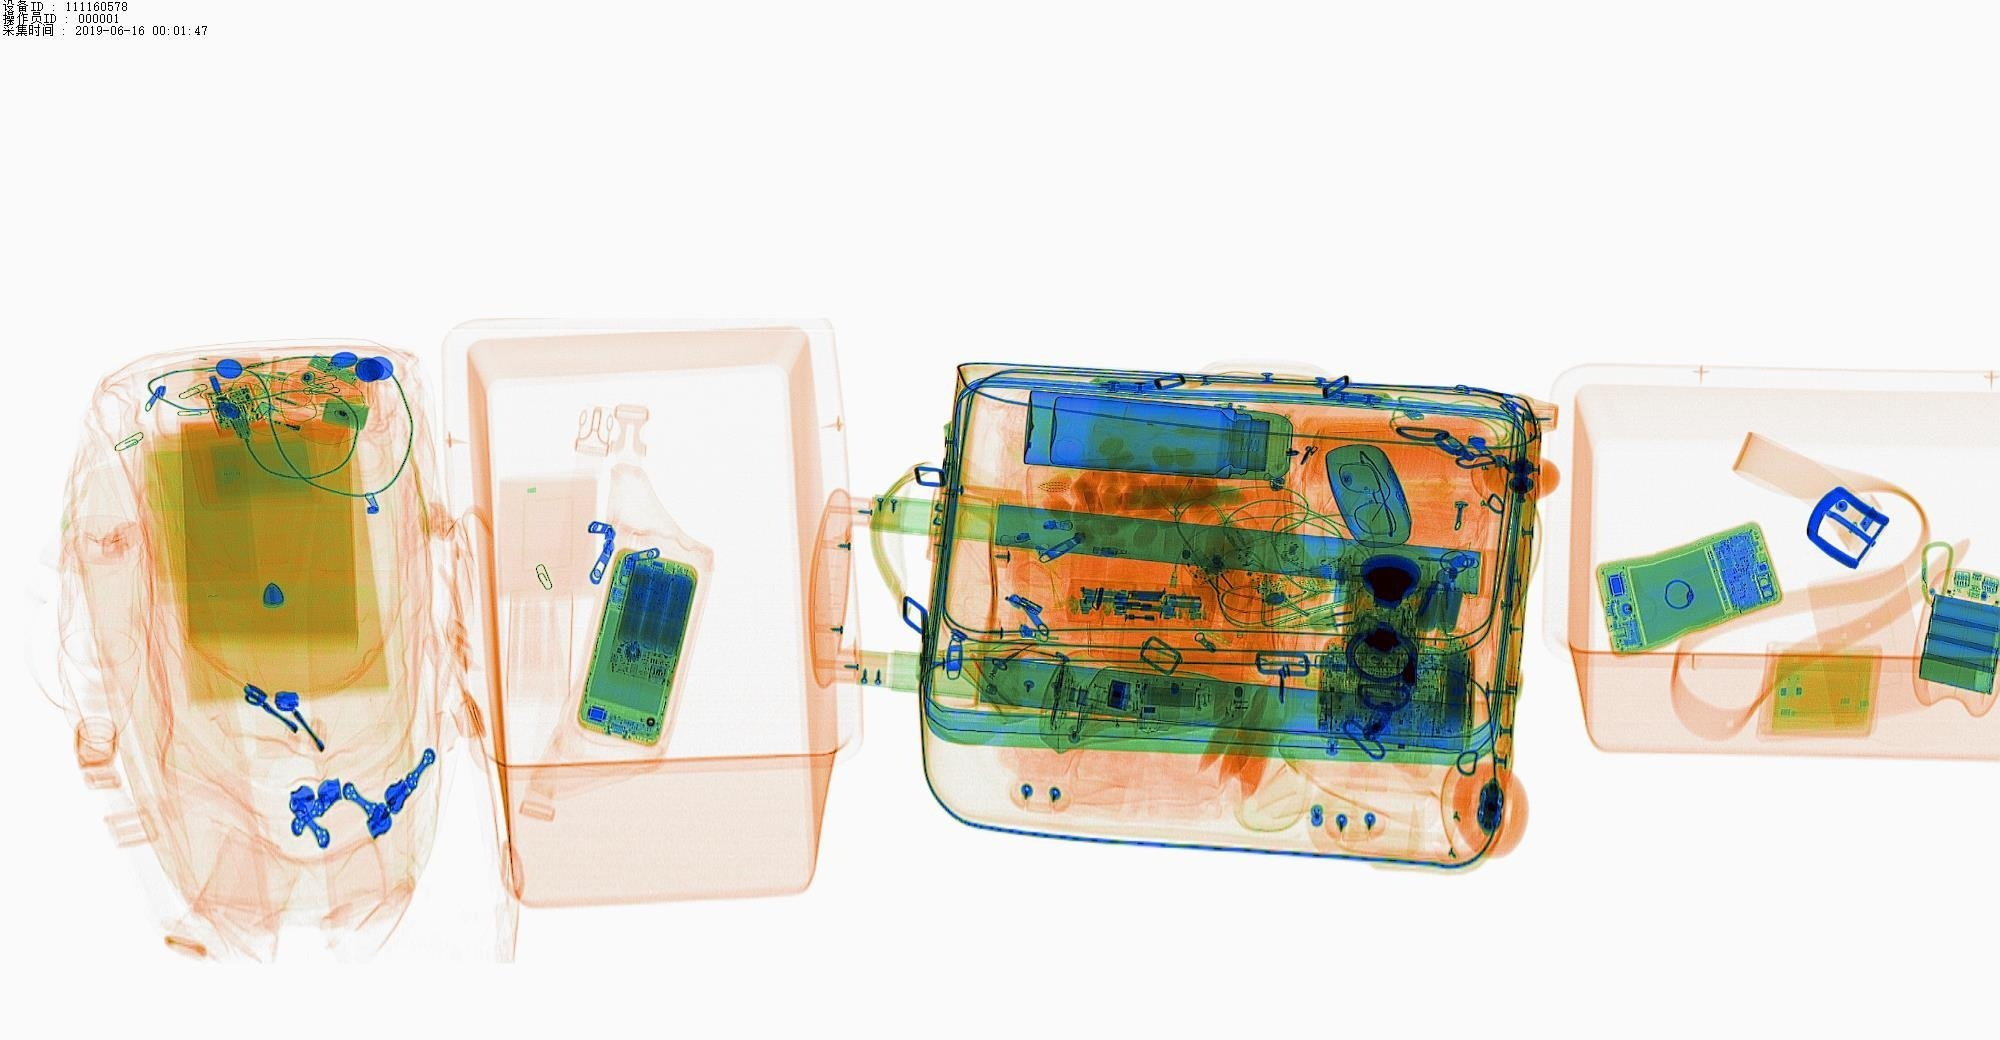NonmetallicFire: (239, 382, 376, 466)
